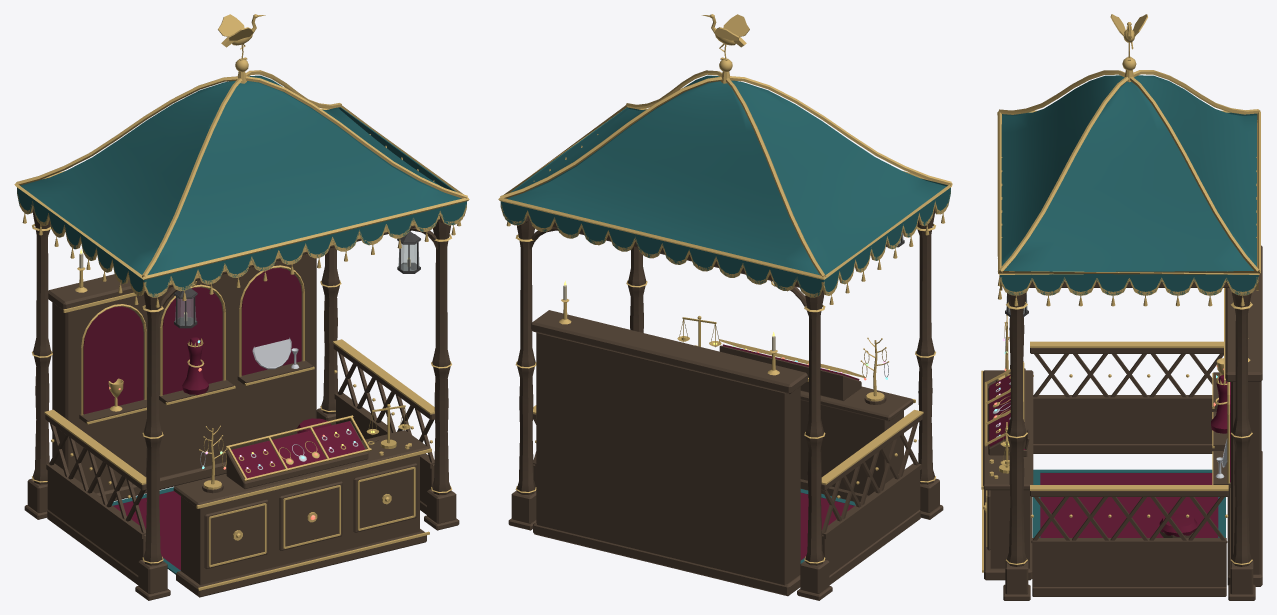
The model's file is stand_jeweller.glb.
3 views of the same model, side by side, from view 1: azimuth 30°, elevation 25°; view 2: azimuth 150°, elevation 25°; view 3: azimuth 270°, elevation 25° (orthographic).
Visible parts, largest first — view 1: stand_jeweller; view 2: stand_jeweller; view 3: stand_jeweller.
Boxes of the visible parts, x1,y1,x2,y2 form: stand_jeweller: (14, 14, 469, 600); stand_jeweller: (498, 14, 952, 600); stand_jeweller: (981, 14, 1262, 600).
Size of what is drawn, in the model's own units: 3.5 by 5.15 by 2.57.
